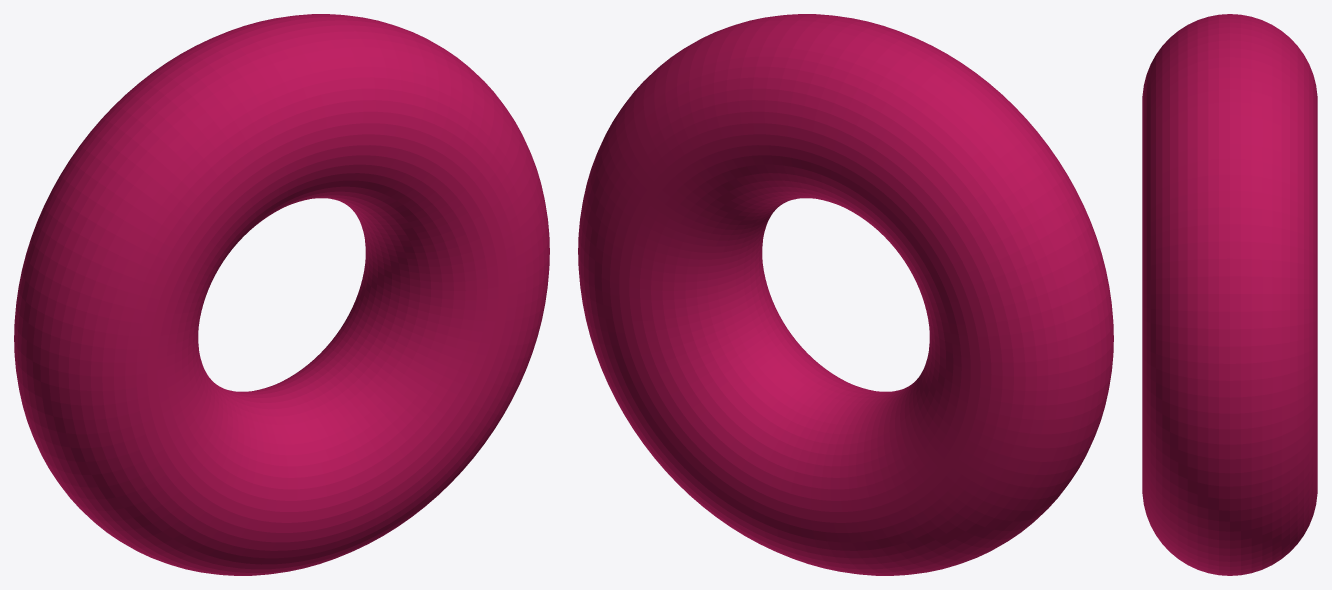
3 views of the same model, side by side, from view 1: azimuth 30°, elevation 25°; view 2: azimuth 150°, elevation 25°; view 3: azimuth 270°, elevation 25° (orthographic). The views are drawn at different scales.
Visible parts, largest first — view 1: world; view 2: world; view 3: world.
Boxes of the visible parts, <box> form: world: <box>14,14,549,575</box>; world: <box>578,14,1113,575</box>; world: <box>1142,14,1317,575</box>.
Bounding box in the file's own units: 25.2 × 25.2 × 7.85.
